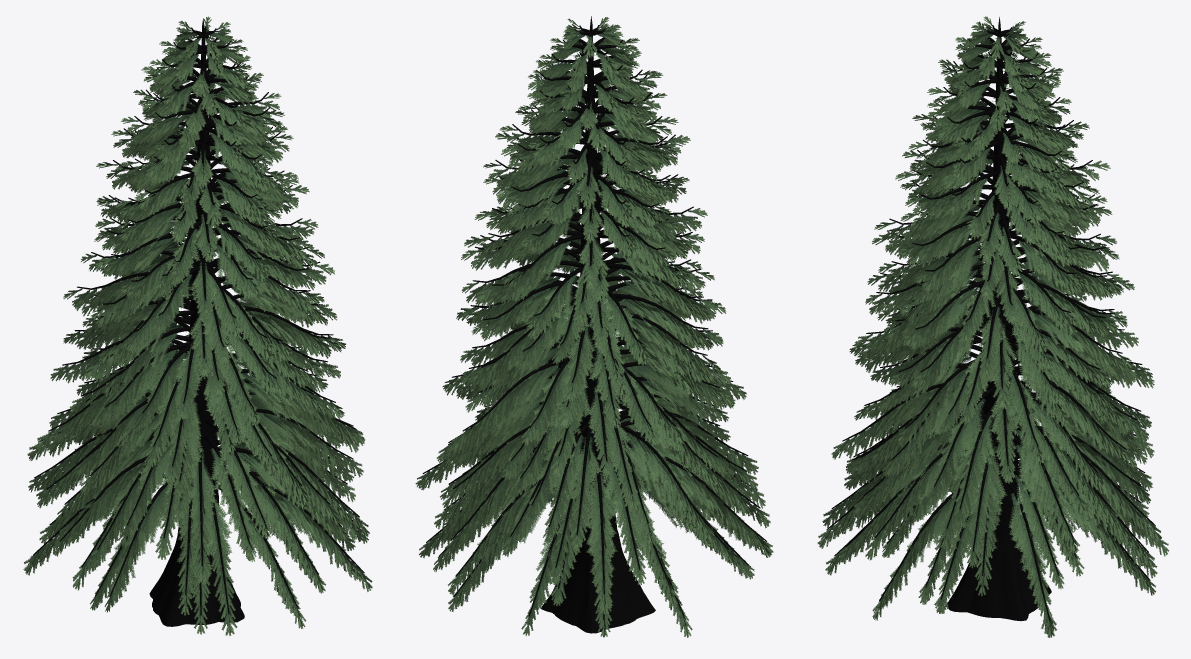
The model's file is pine_giant_01.glb.
The picture shows the model from 3 angles, left to right: view 1: azimuth 30°, elevation 25°; view 2: azimuth 150°, elevation 25°; view 3: azimuth 270°, elevation 25°; orthographic projection.
Parts seen in each view (by area): view 1: pine_giant_01; view 2: pine_giant_01; view 3: pine_giant_01.
Boxes of the visible parts, x1=… form: pine_giant_01: x1=23, y1=16, x2=372, y2=635; pine_giant_01: x1=415, y1=16, x2=773, y2=637; pine_giant_01: x1=817, y1=16, x2=1169, y2=637.
Size of the model in its own units: 13.65 by 24.4 by 13.87.
2 materials, 2 textured.
